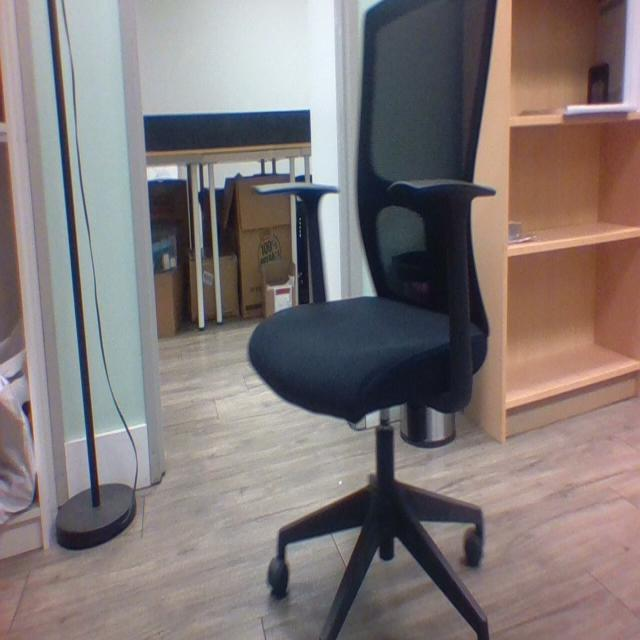chair: (246, 1, 502, 640)
